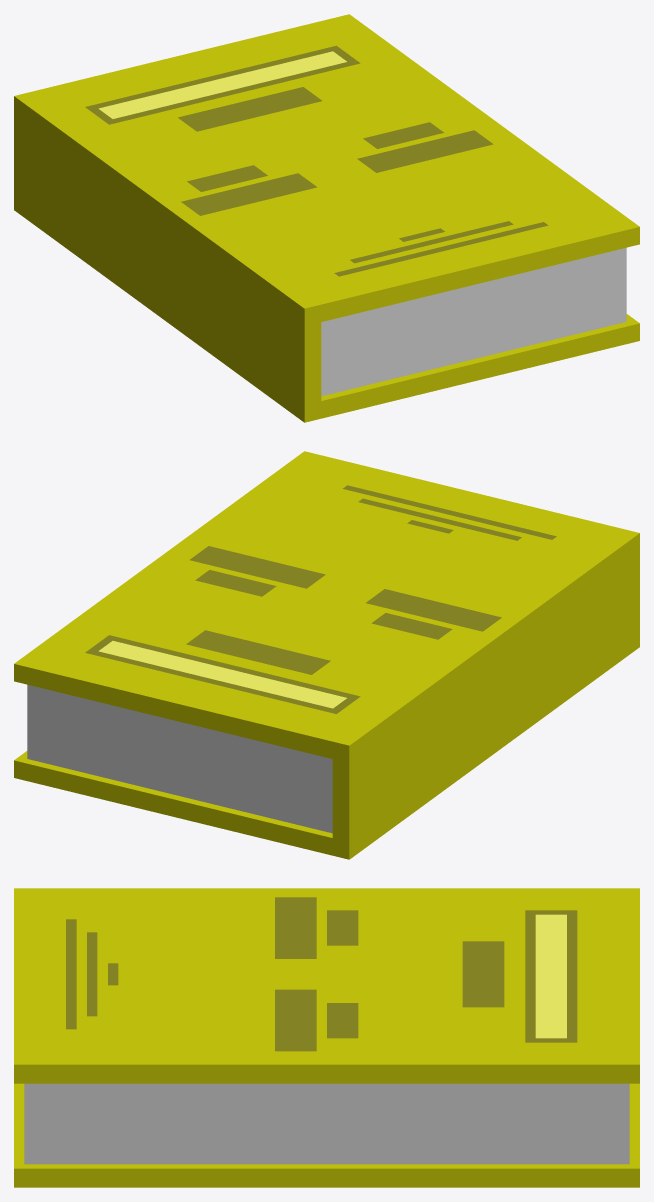
Rendered from Book4.obj.
The picture shows the model from 3 angles, top to bottom: view 1: azimuth 30°, elevation 25°; view 2: azimuth 150°, elevation 25°; view 3: azimuth 270°, elevation 25°; orthographic projection. The views are drawn at different scales.
Size of the model in its own units: 4 by 1.3 by 6.
1 material, 1 textured.
